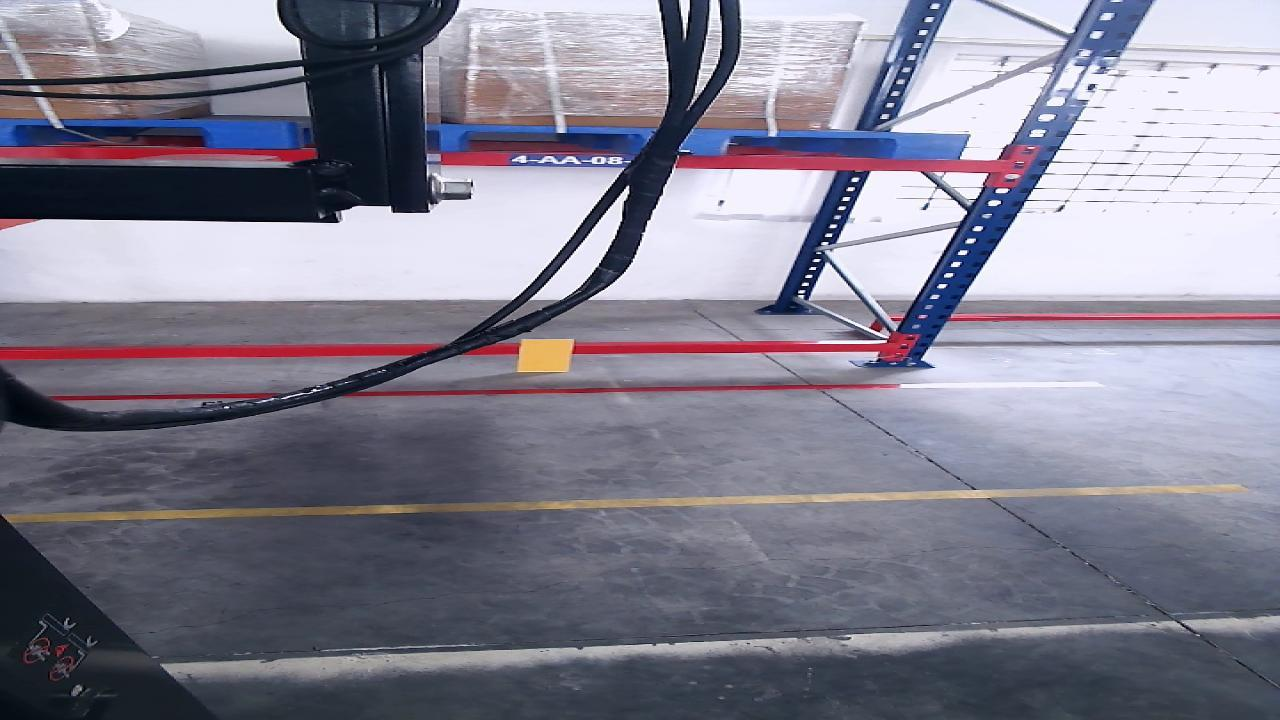h_rack: (0, 147, 1000, 172), (0, 344, 888, 360)
orange_strip: (518, 340, 569, 371)
red_line: (52, 381, 1101, 400)
small_pallet: (440, 126, 968, 158), (0, 120, 293, 149)
yellow_line: (4, 483, 1255, 523)
